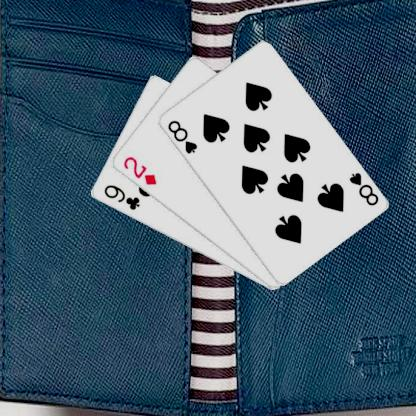2D: (120, 153, 158, 187)
8S: (164, 117, 198, 155), (346, 170, 379, 208)
9C: (101, 182, 141, 212)
